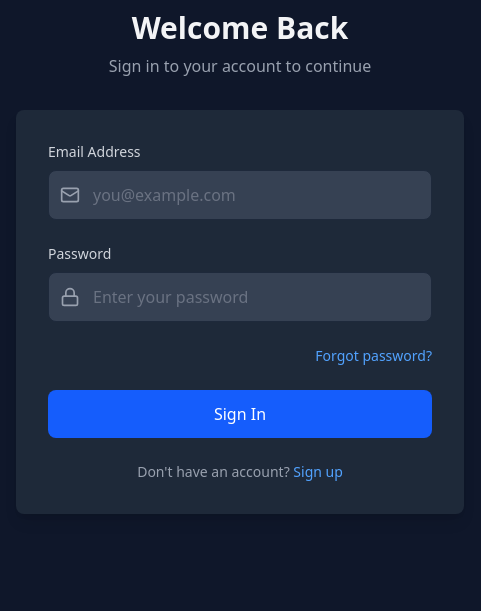
Scenario: Login Page › should display error message on login failure
Type "test@example.com" into the field labelled "Email Address". click: [240, 195]
box: top-left (48, 170), bottom-right (432, 220)
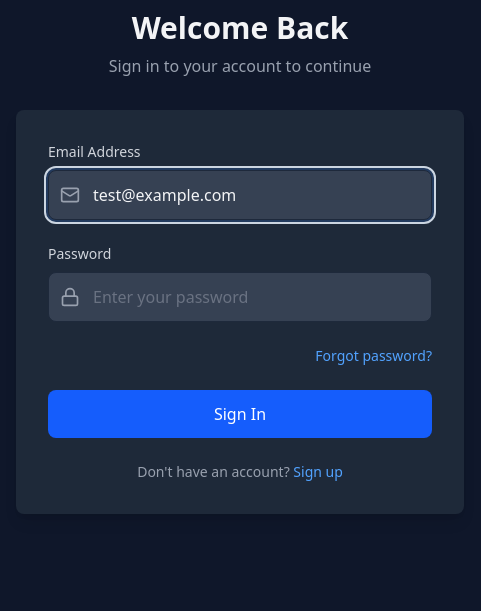
Type "wrongpassword" into the password field labelled "Password". click: [240, 297]
box: top-left (48, 272), bottom-right (432, 322)
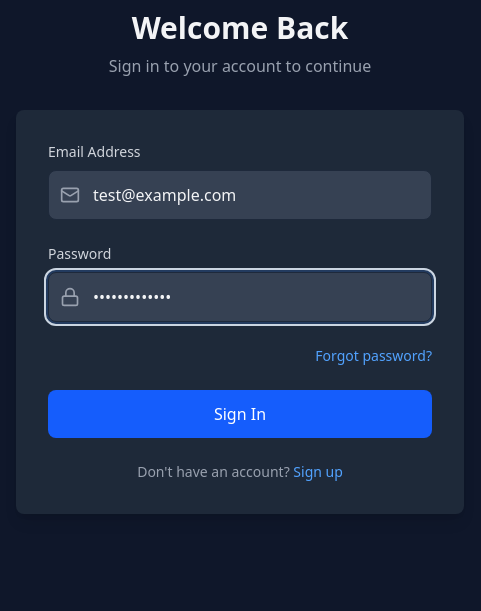
Click the button "Sign In". click: [240, 414]
box: top-left (48, 390), bottom-right (432, 438)
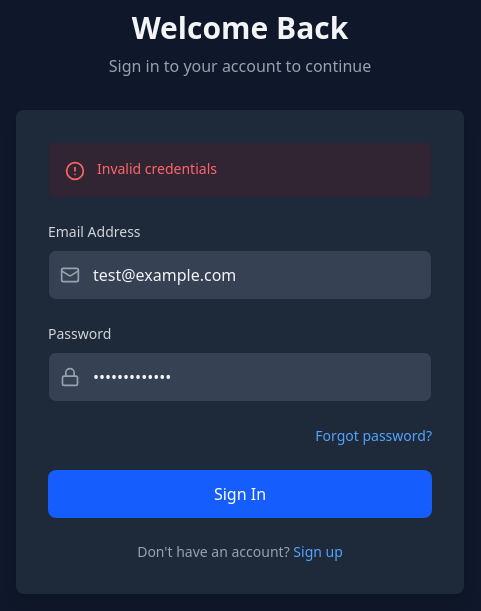
Expected: the text "Invalid credentials" is shown, top-left (97, 159), bottom-right (217, 179)
